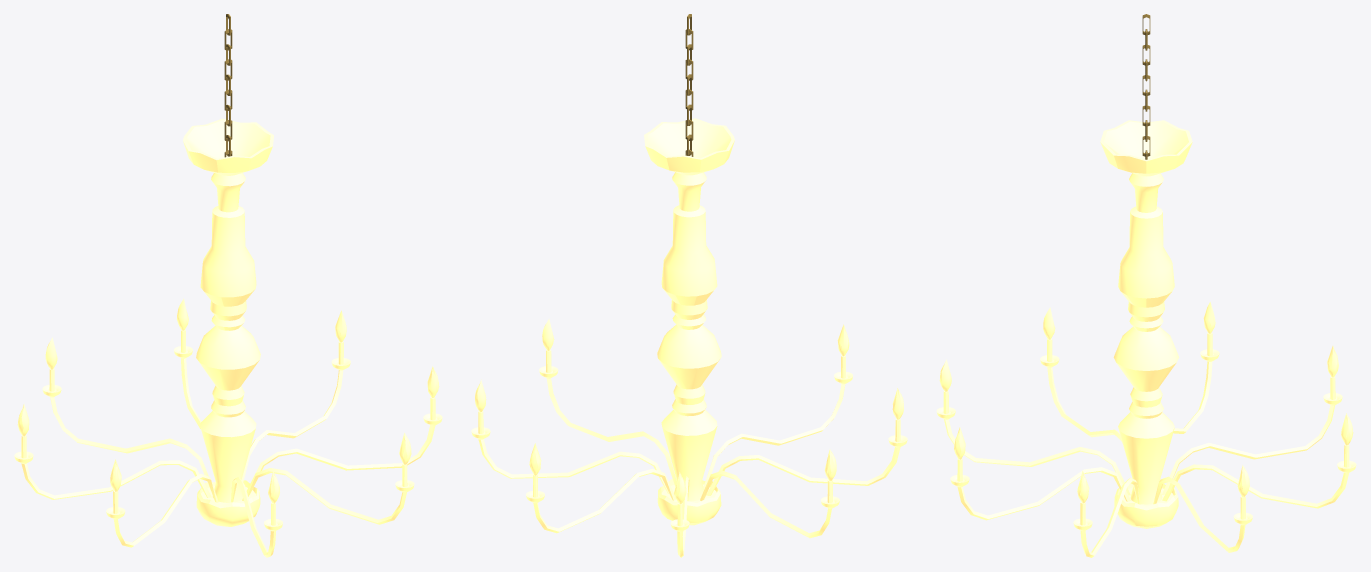
The model's file is Chandelier_Royal.glb.
The picture shows the model from 3 angles, left to right: view 1: azimuth 30°, elevation 25°; view 2: azimuth 150°, elevation 25°; view 3: azimuth 270°, elevation 25°; orthographic projection.
Visible parts, largest first — view 1: Chandelier_Cylinder_002, Chandelier_Cube; view 2: Chandelier_Cylinder_002, Chandelier_Cube; view 3: Chandelier_Cylinder_002, Chandelier_Cube.
Part boxes in pixels (x1,y1,x2,y2): Chandelier_Cylinder_002: [14, 118, 442, 557]; Chandelier_Cube: [224, 14, 232, 157]; Chandelier_Cylinder_002: [471, 118, 907, 557]; Chandelier_Cube: [685, 14, 693, 156]; Chandelier_Cylinder_002: [936, 120, 1356, 557]; Chandelier_Cube: [1142, 14, 1150, 159].
Bounding box in the file's own units: 1.6 × 2.13 × 1.6.
